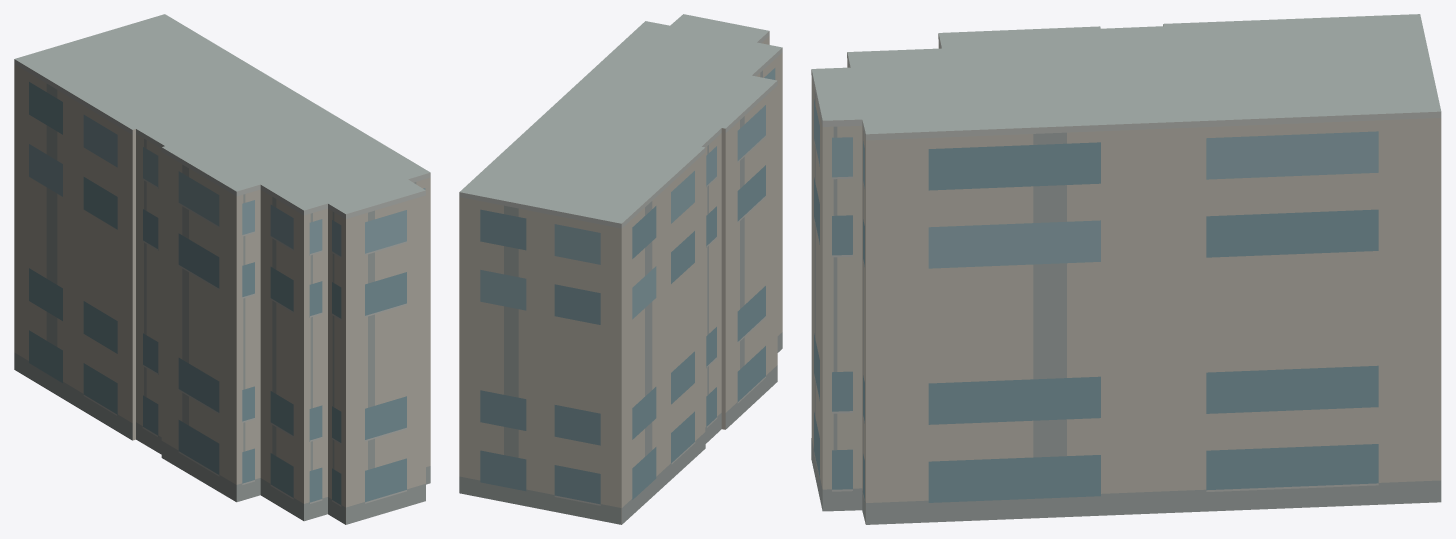
File: survey-upis-32905441.glb
3 renders of one model, left to right at view 1: azimuth 30°, elevation 25°; view 2: azimuth 150°, elevation 25°; view 3: azimuth 270°, elevation 25°, orthographic. The views are drawn at different scales.
Visible parts, largest first — view 1: survey-upis-32905441.tmp; view 2: survey-upis-32905441.tmp; view 3: survey-upis-32905441.tmp.
Part boxes in pixels (box(x1,y1,x2,y2)): survey-upis-32905441.tmp: box(14, 14, 430, 524); survey-upis-32905441.tmp: box(459, 14, 782, 524); survey-upis-32905441.tmp: box(811, 14, 1441, 524).
Size of the model in its own units: 10.08 by 15.25 by 22.29.
